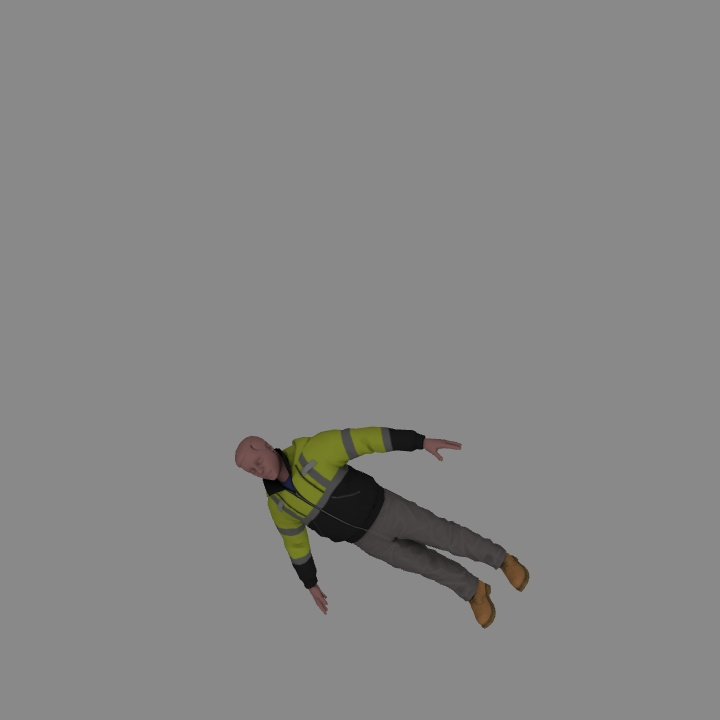victim: (238, 427, 524, 627)
